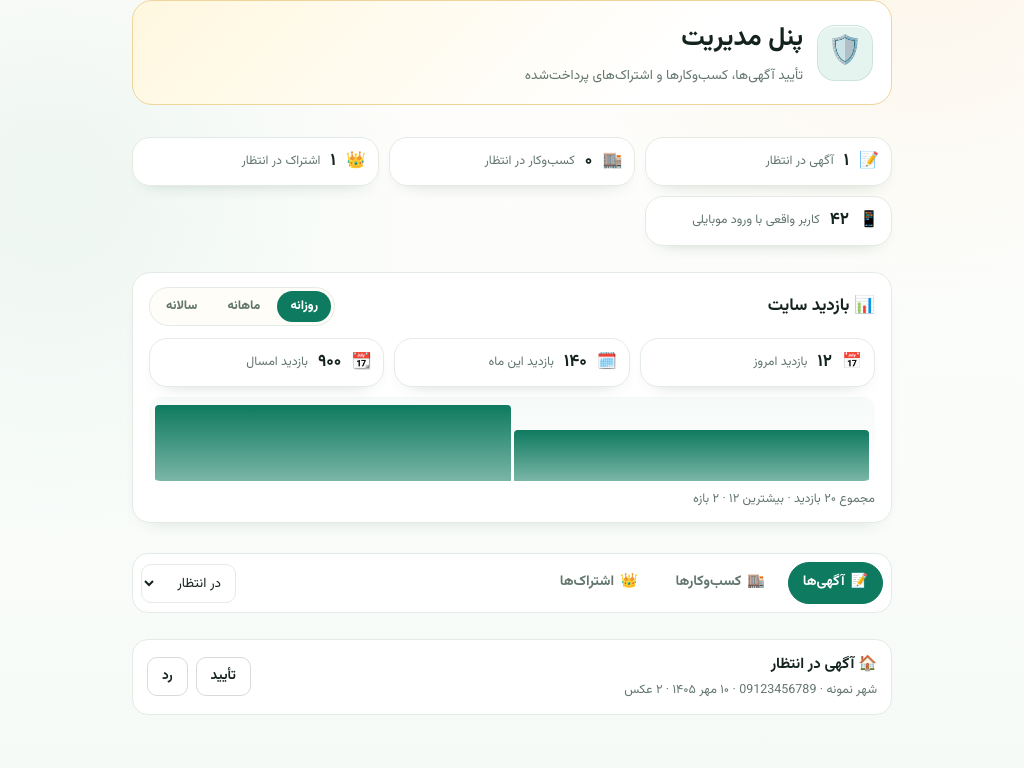
Scenario: AdminPanel › sends the manual signup to its own dedicated page (ثبت دستی)
The width and height of the screenshot is (1024, 768).
Step 1. Click the tab with test id "tab-businesses" → (720, 583), box [661,562,780,604]
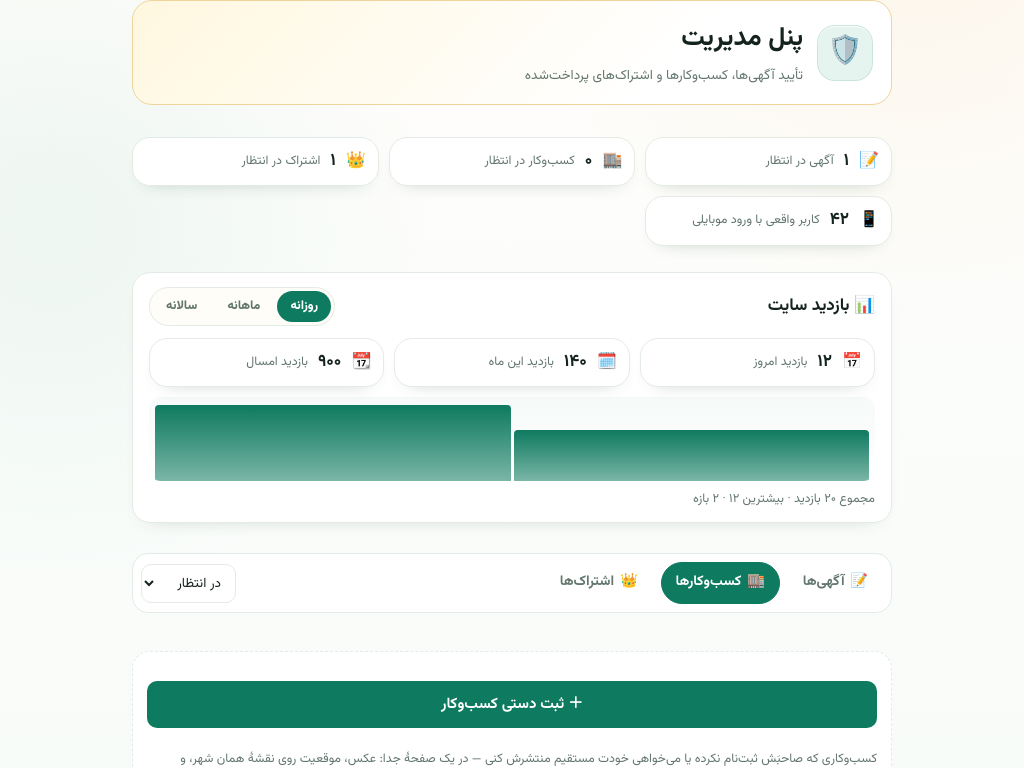
Now the link with test id "admin-create-toggle" shows "ثبت دستی کسب‌وکار", box [147,681,877,728]
